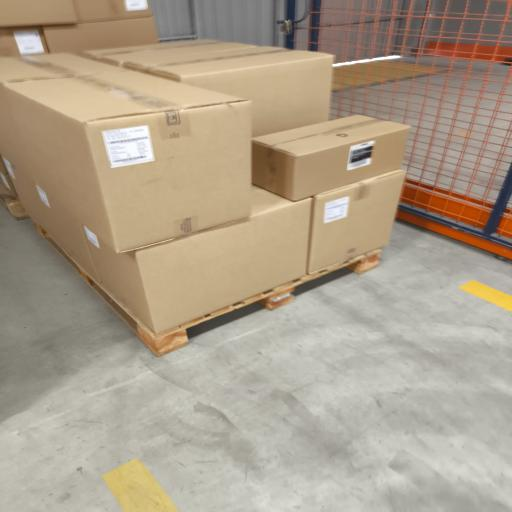pallet: (36, 225, 381, 355), (2, 196, 29, 219)
